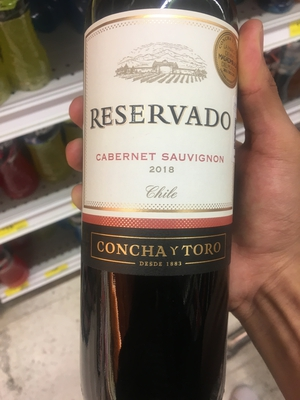reservado cabernet sauvignon: (80, 1, 245, 400)
